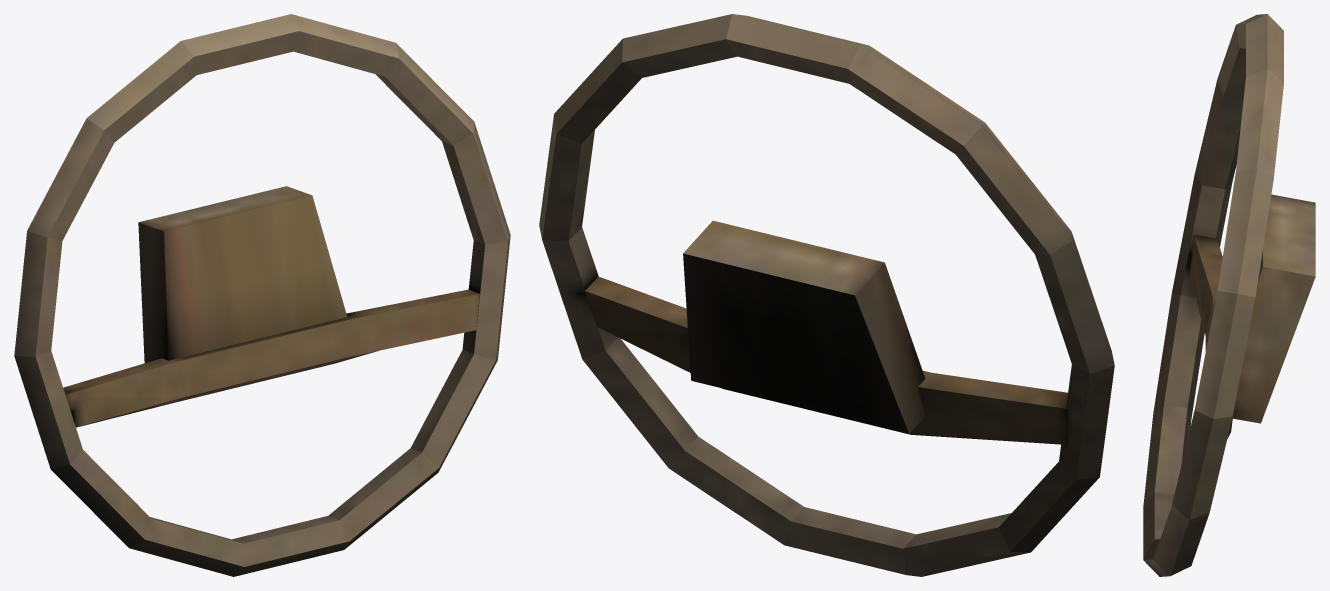
The model's file is testcarwheel.obj.
3 renders of one model, left to right at view 1: azimuth 30°, elevation 25°; view 2: azimuth 150°, elevation 25°; view 3: azimuth 270°, elevation 25°, orthographic. The views are drawn at different scales.
Visible parts, largest first — view 1: wheel3.001; view 2: wheel3.001; view 3: wheel3.001.
Part boxes in pixels (box(x1,y1,x2,y2)): wheel3.001: box(14, 14, 510, 576); wheel3.001: box(539, 14, 1114, 576); wheel3.001: box(1143, 14, 1315, 576).
Size of the model in its own units: 0.3823 by 0.366 by 0.1127.
1 material, 1 textured.
